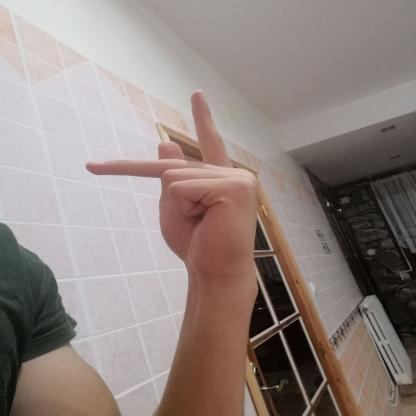DHAA: (73, 80, 275, 286)
